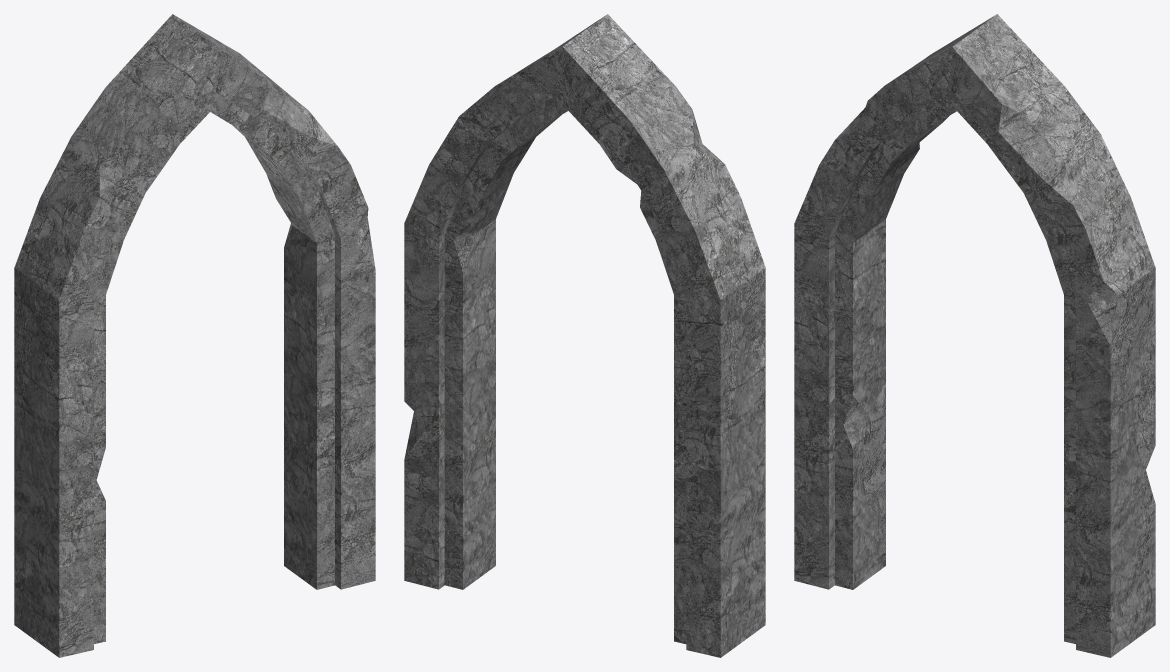
Rendered from materials_3_gate_2.fbx.
The picture shows the model from 3 angles, left to right: view 1: azimuth 30°, elevation 25°; view 2: azimuth 150°, elevation 25°; view 3: azimuth 330°, elevation 25°; orthographic projection.
Parts seen in each view (by area): view 1: materials_3_gate_2; view 2: materials_3_gate_2; view 3: materials_3_gate_2.
Part boxes in pixels (box(x1,y1,x2,y2)): materials_3_gate_2: box(14, 14, 375, 657); materials_3_gate_2: box(404, 14, 765, 657); materials_3_gate_2: box(794, 14, 1155, 657).
Size of the model in its own units: 184 by 319 by 45.51.
